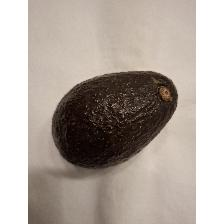Avocado: (50, 66, 182, 172)
